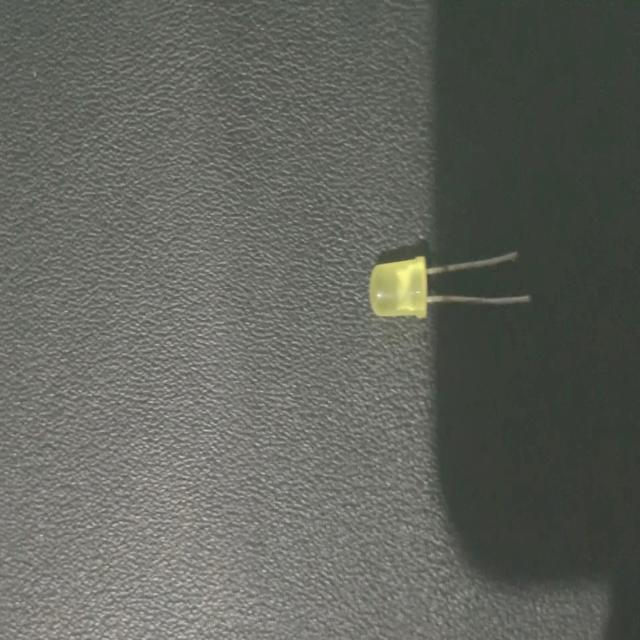LED: (367, 247, 532, 320)
